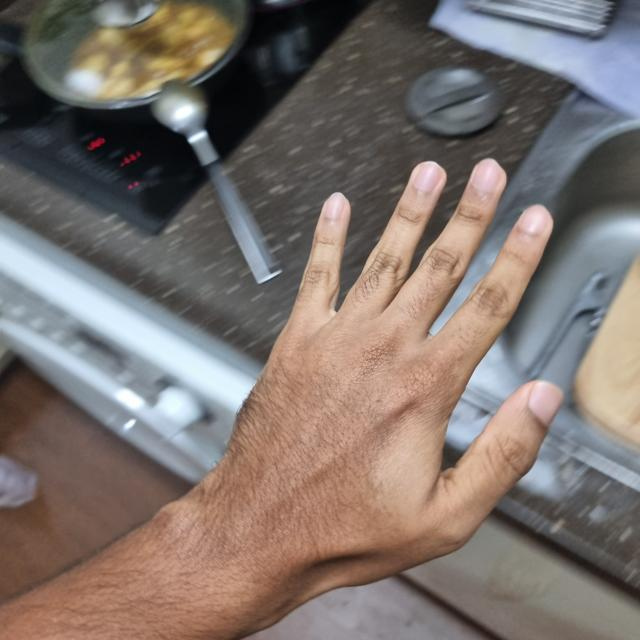Paper: (207, 158, 556, 594)
